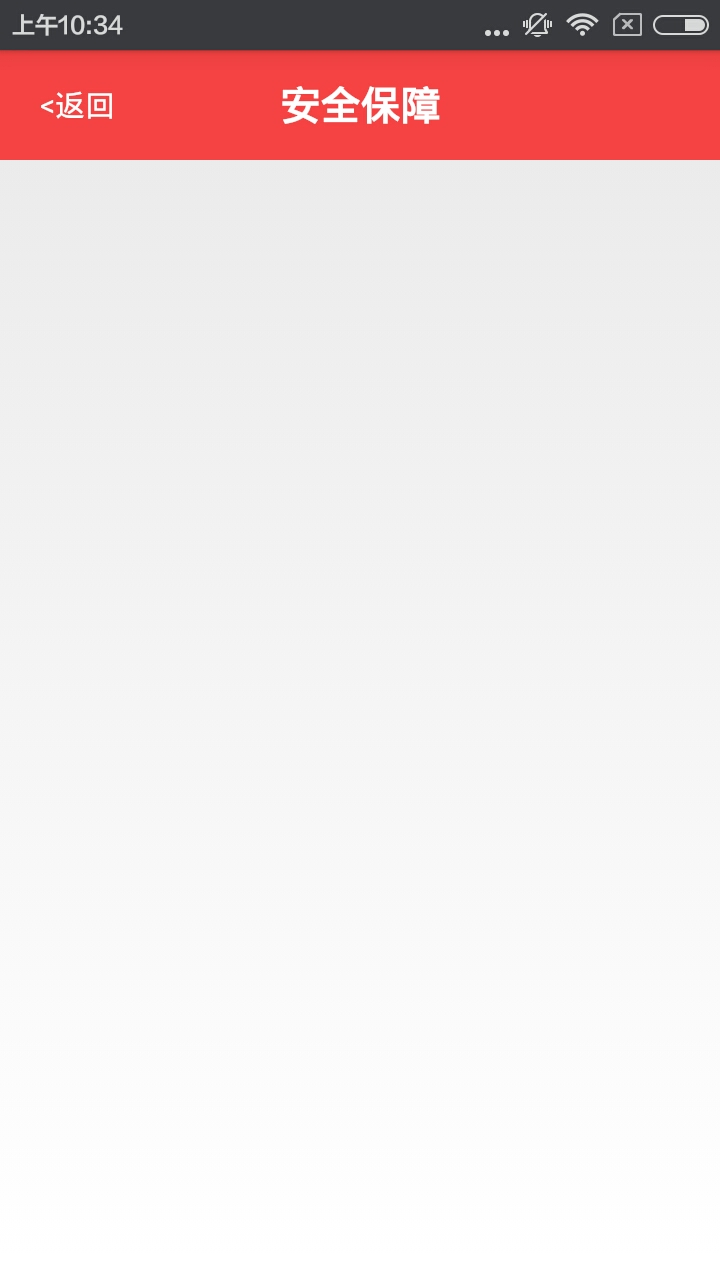button: (33, 80, 129, 127)
